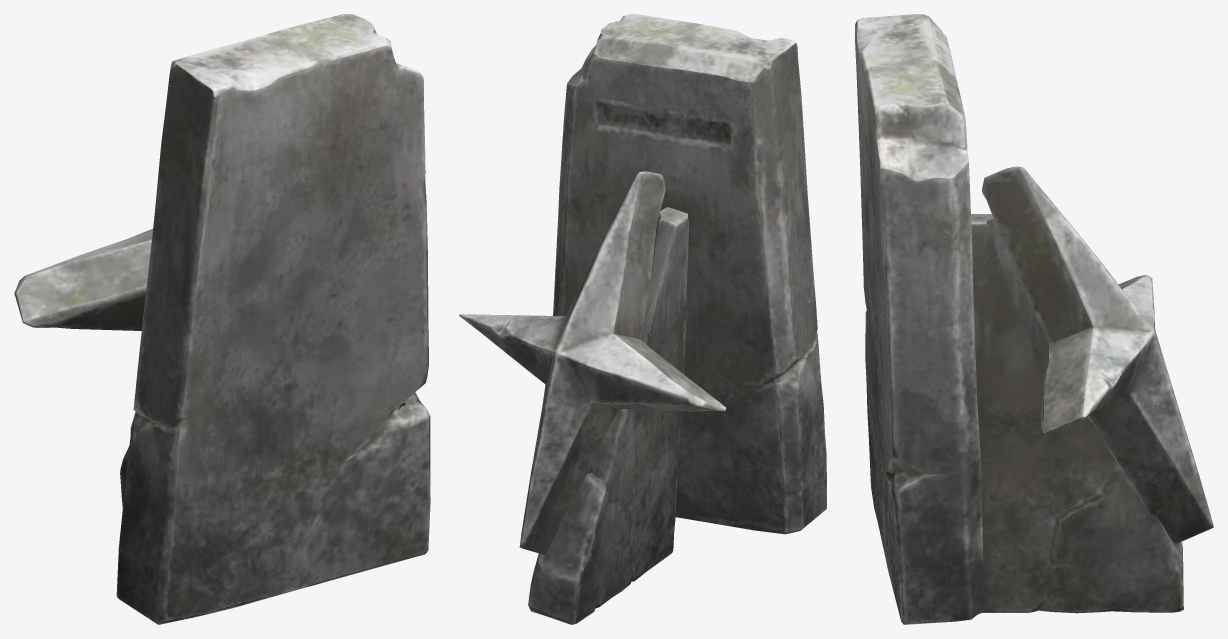
3 views of the same model, side by side, from view 1: azimuth 30°, elevation 25°; view 2: azimuth 150°, elevation 25°; view 3: azimuth 270°, elevation 25° (orthographic). The views are drawn at different scales.
Parts seen in each view (by area): view 1: SM_Human_Gravestone_Stone_03_LOD0; view 2: SM_Human_Gravestone_Stone_03_LOD0; view 3: SM_Human_Gravestone_Stone_03_LOD0.
Boxes of the visible parts, x1,y1,x2,y2 form: SM_Human_Gravestone_Stone_03_LOD0: [14, 14, 430, 624]; SM_Human_Gravestone_Stone_03_LOD0: [459, 14, 826, 624]; SM_Human_Gravestone_Stone_03_LOD0: [855, 14, 1213, 624].
Bounding box in the file's own units: 0.9942 × 1.7 × 1.02.
1 material, 1 textured.
